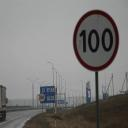speed_limit_100: (70, 7, 121, 73)
speed_limit_80: (38, 93, 46, 102)
